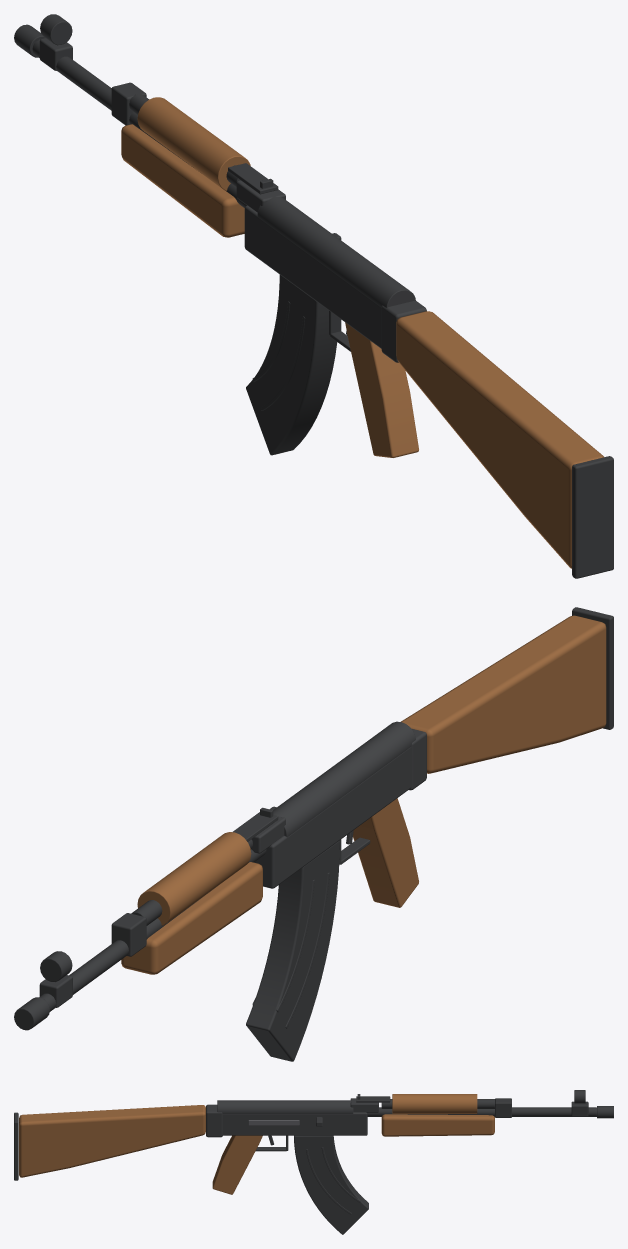
The picture shows the model from 3 angles, top to bottom: view 1: azimuth 30°, elevation 25°; view 2: azimuth 150°, elevation 25°; view 3: azimuth 270°, elevation 25°; orthographic projection. The views are drawn at different scales.
Parts seen in each view (by area): view 1: Stock, Mag_body, Receiver, Grip, LowerHandguard, DustCover, Buttplate, UpperHandguard, Barrel, RearTrunnion, GasBlock, FSHood; view 2: Stock, Mag_body, Receiver, LowerHandguard, DustCover, Grip, UpperHandguard, Barrel, Buttplate, GasBlock, RearTrunnion, SlantBrake (+4 smaller); view 3: Stock, Mag_body, Receiver, LowerHandguard, DustCover, UpperHandguard, Grip, Barrel, RearTrunnion, Buttplate, GasBlock, RearSightBlock (+5 smaller).
Boxes of the visible parts, bbox=[...] form: Stock: bbox=[396, 311, 603, 568]; Mag_body: bbox=[246, 274, 337, 455]; Receiver: bbox=[244, 205, 381, 348]; Grip: bbox=[345, 322, 418, 457]; LowerHandguard: bbox=[121, 124, 244, 237]; DustCover: bbox=[257, 196, 415, 307]; Buttplate: bbox=[572, 456, 613, 578]; UpperHandguard: bbox=[137, 97, 250, 190]; Barrel: bbox=[32, 39, 246, 207]; RearTrunnion: bbox=[381, 300, 426, 362]; GasBlock: bbox=[111, 82, 146, 125]; FSHood: bbox=[40, 14, 72, 45]; Stock: bbox=[401, 615, 606, 773]; Mag_body: bbox=[246, 840, 339, 1061]; Receiver: bbox=[254, 747, 411, 888]; LowerHandguard: bbox=[121, 862, 262, 974]; DustCover: bbox=[273, 721, 415, 837]; Grip: bbox=[353, 798, 418, 907]; UpperHandguard: bbox=[137, 832, 251, 925]; Barrel: bbox=[39, 849, 266, 1011]; Buttplate: bbox=[572, 607, 613, 729]; GasBlock: bbox=[111, 913, 146, 956]; RearTrunnion: bbox=[409, 728, 426, 790]; SlantBrake: bbox=[14, 997, 49, 1030]; Stock: bbox=[19, 1105, 205, 1177]; Mag_body: bbox=[294, 1135, 368, 1234]; Receiver: bbox=[222, 1112, 367, 1135]; LowerHandguard: bbox=[381, 1114, 494, 1136]; DustCover: bbox=[217, 1100, 353, 1113]; UpperHandguard: bbox=[392, 1094, 477, 1113]; Grip: bbox=[212, 1135, 262, 1194]; Barrel: bbox=[367, 1107, 596, 1116]; RearTrunnion: bbox=[206, 1104, 222, 1137]; Buttplate: bbox=[14, 1112, 18, 1180]; GasBlock: bbox=[495, 1098, 511, 1117]; RearSightBlock: bbox=[350, 1098, 378, 1112].
Bounding box in the file's own units: 0.0589 × 0.2757 × 1.06.
